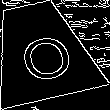O_N: (9, 21, 73, 82)
